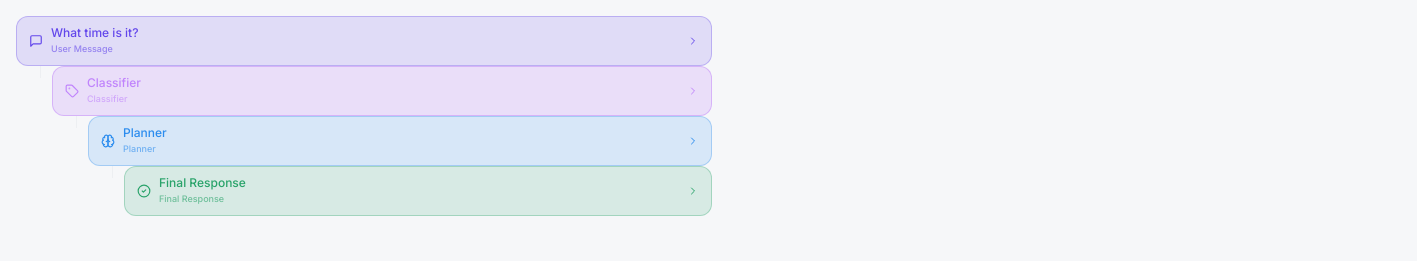
UX1: Classifier detail panel › shows task_type in detail panel when classifier node is clicked
This screenshot has width=1417, height=261.
Click the button "Classifier Classifier" at (114, 82), box [52,66,712,116]
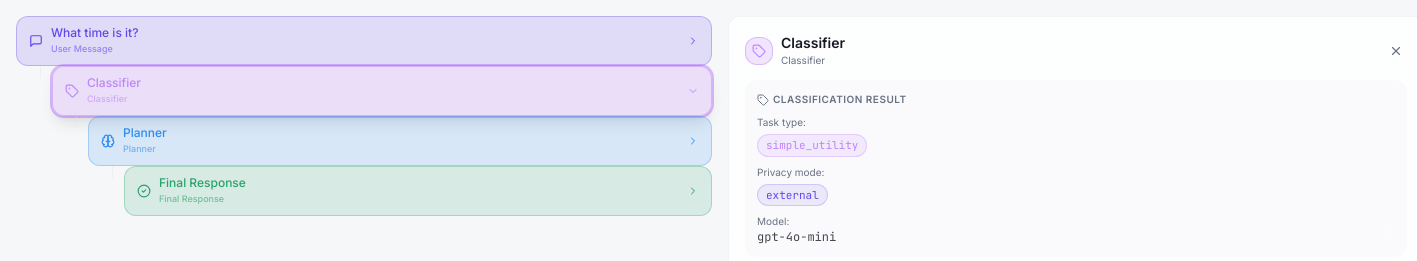
Expected: the text "simple_utility" is shown, [757,134,867,156]
Expected: the text "Task type:" is shown, [757,116,806,128]
